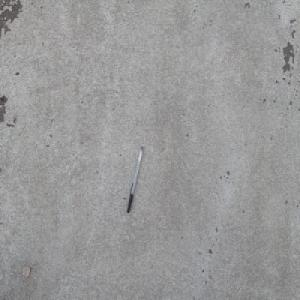Pen: (126, 145, 144, 214)
